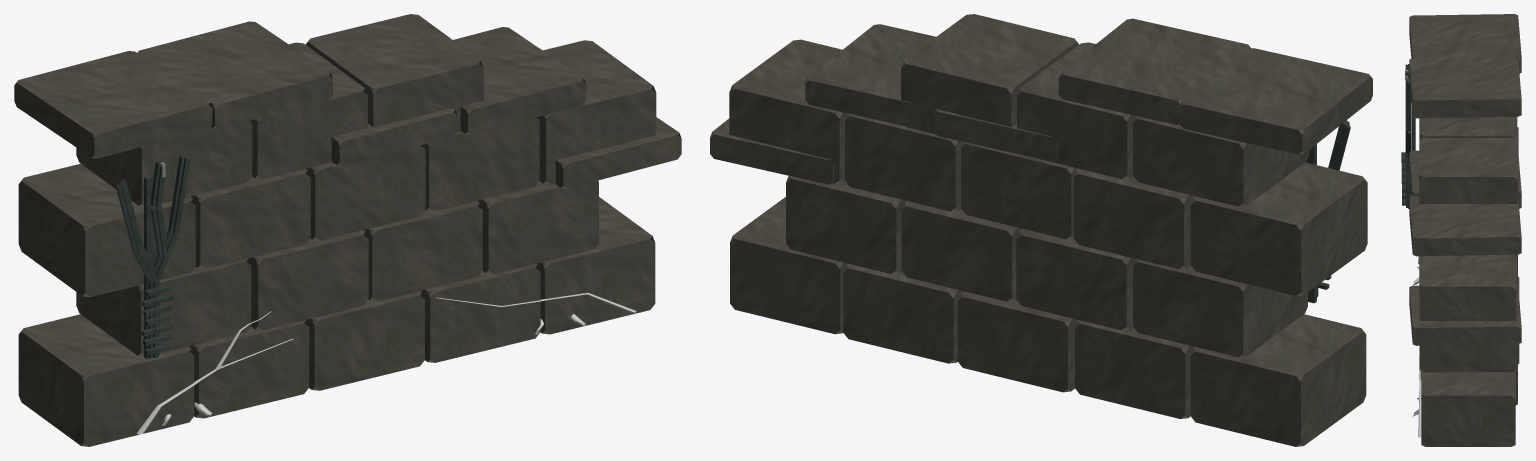
The model's file is cataclysm_upland_wall-lod2.gltf.
3 views of the same model, side by side, from view 1: azimuth 30°, elevation 25°; view 2: azimuth 150°, elevation 25°; view 3: azimuth 270°, elevation 25° (orthographic). The views are drawn at different scales.
Parts seen in each view (by area): view 1: cataclysm_upland_wall LOD2 cataclysm_upland_wall, cataclysm_upland_wall LOD2 cataclysm_upland_wall roots attac; view 2: cataclysm_upland_wall LOD2 cataclysm_upland_wall; view 3: cataclysm_upland_wall LOD2 cataclysm_upland_wall, cataclysm_upland_wall LOD2 cataclysm_upland_wall roots attac.
Boxes of the visible parts, <box> form: cataclysm_upland_wall LOD2 cataclysm_upland_wall: <box>14,14,681,446</box>; cataclysm_upland_wall LOD2 cataclysm_upland_wall roots attac: <box>136,292,636,434</box>; cataclysm_upland_wall LOD2 cataclysm_upland_wall: <box>710,14,1372,446</box>; cataclysm_upland_wall LOD2 cataclysm_upland_wall: <box>1401,14,1521,446</box>; cataclysm_upland_wall LOD2 cataclysm_upland_wall roots attac: <box>1418,256,1421,437</box>.
Bounding box in the file's own units: 3.05 × 1.56 × 0.7398.
